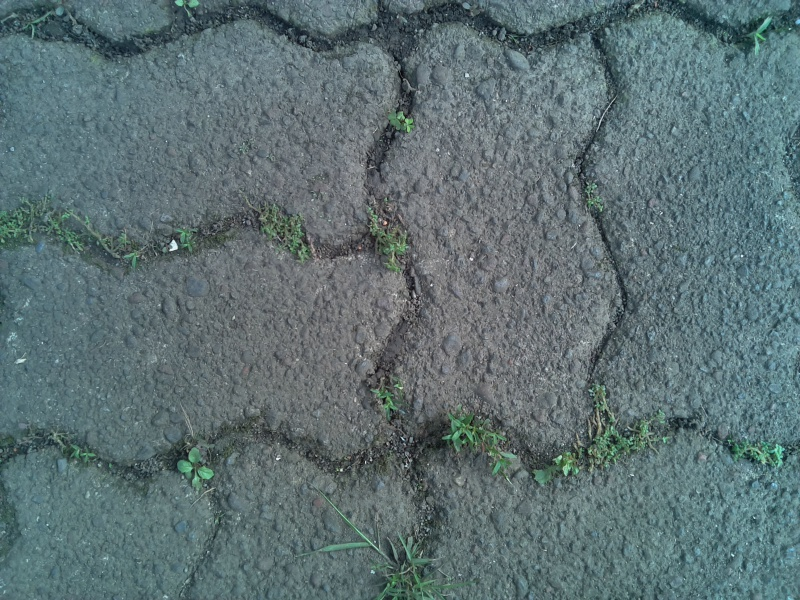Weed: (347, 519, 445, 600), (586, 381, 671, 467), (246, 188, 327, 275), (434, 410, 520, 482), (1, 198, 76, 264), (89, 212, 156, 277), (361, 206, 421, 273), (724, 431, 788, 474), (168, 441, 217, 495), (363, 371, 410, 426), (571, 171, 619, 220), (529, 451, 585, 492), (57, 430, 104, 477), (378, 104, 423, 146), (739, 12, 779, 56), (171, 216, 204, 259), (18, 11, 54, 44)
